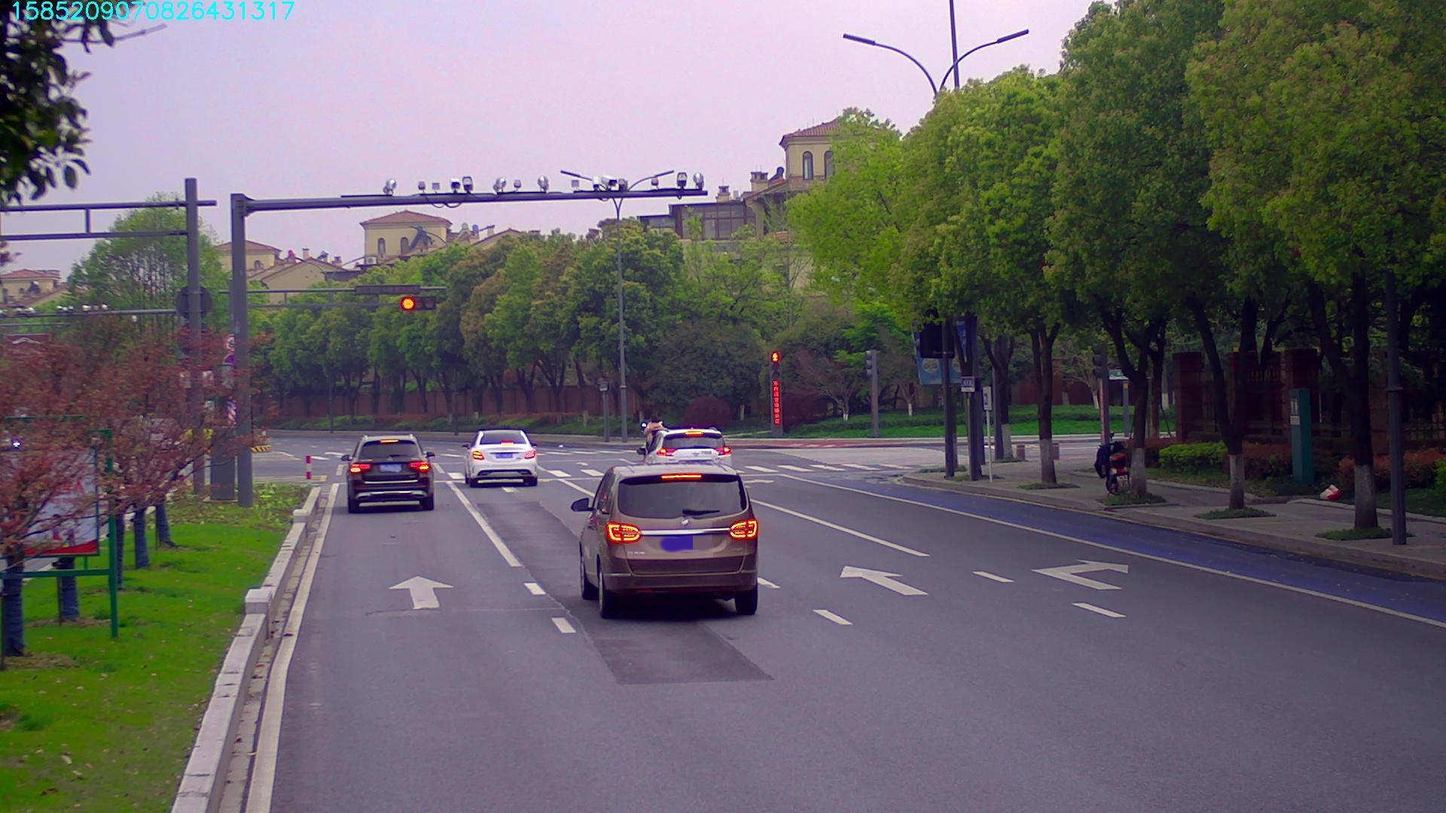red: (395, 297, 436, 312)
